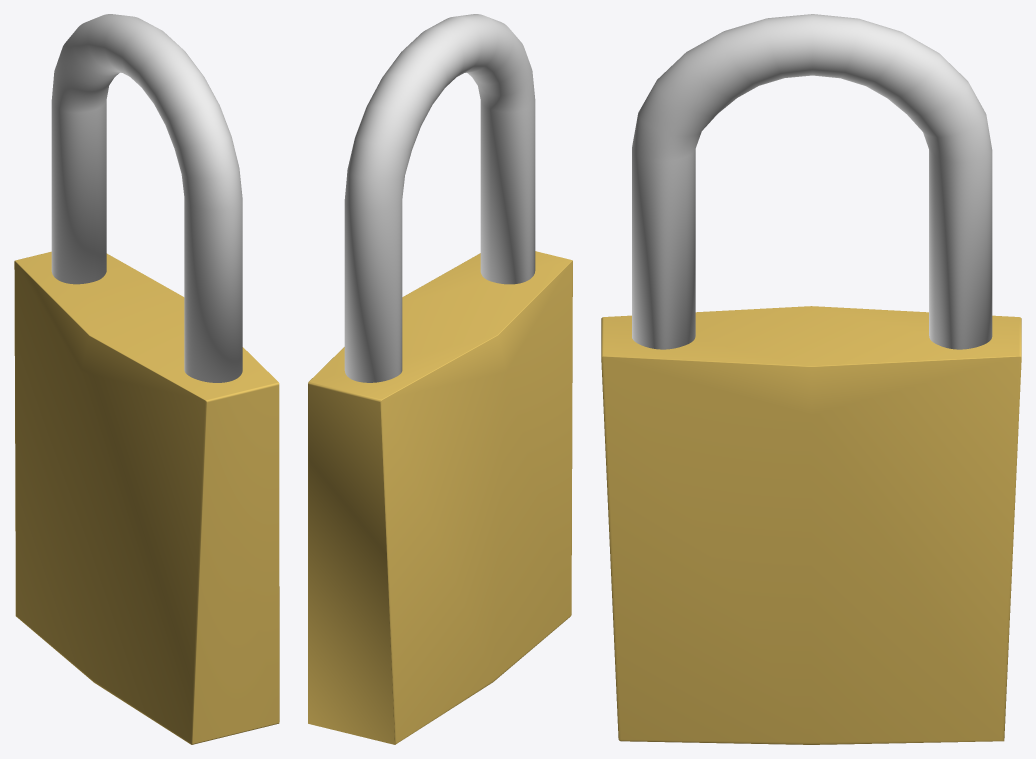
The model's file is lock.glb.
3 renders of one model, left to right at view 1: azimuth 30°, elevation 25°; view 2: azimuth 150°, elevation 25°; view 3: azimuth 270°, elevation 25°, orthographic. The views are drawn at different scales.
Parts seen in each view (by area): view 1: padlock_0; view 2: padlock_0; view 3: padlock_0.
Boxes of the visible parts, x1,y1,x2,y2 form: padlock_0: (14,14,279,744); padlock_0: (308,14,572,744); padlock_0: (601,14,1021,744).
Bounding box in the file's own units: 0.0469 × 0.2181 × 0.1184.
